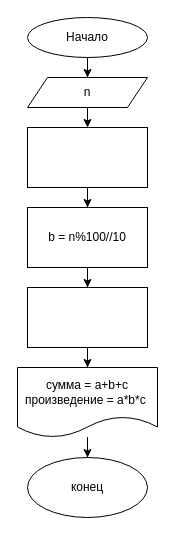
Some shapes in this 175 by 535 pixel diagram are drawn without their labels. Here are the shapes that lost their labels. From the top down, the box of each, then its label:
(26, 126, 148, 188): a = n // 100
(26, 286, 148, 348): c=n%10
